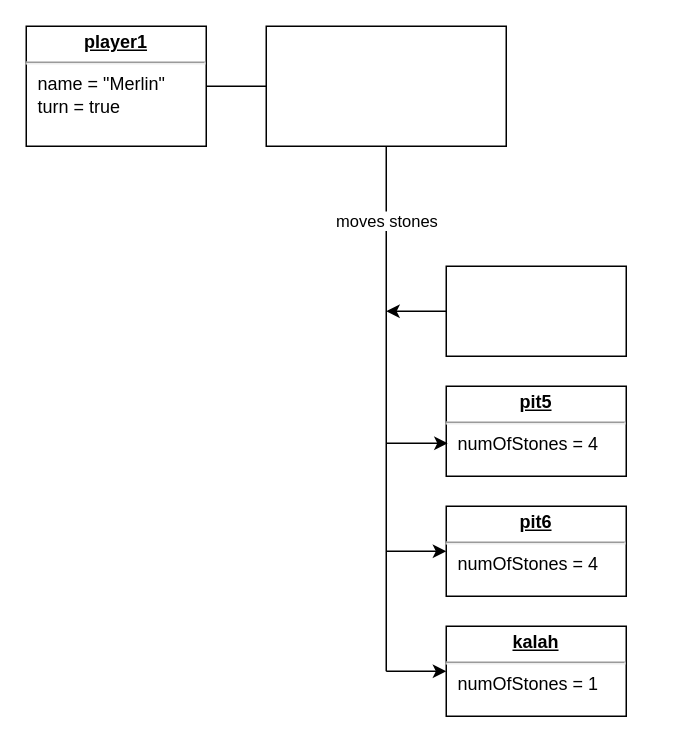
Image size: 683x743. Some labels were removed from this diagram. Each missing label, with the centre of its shape:
gameSystem display = "Merlin's turn": point (385, 85)
pit4 numOfStones = 0: point (535, 310)
